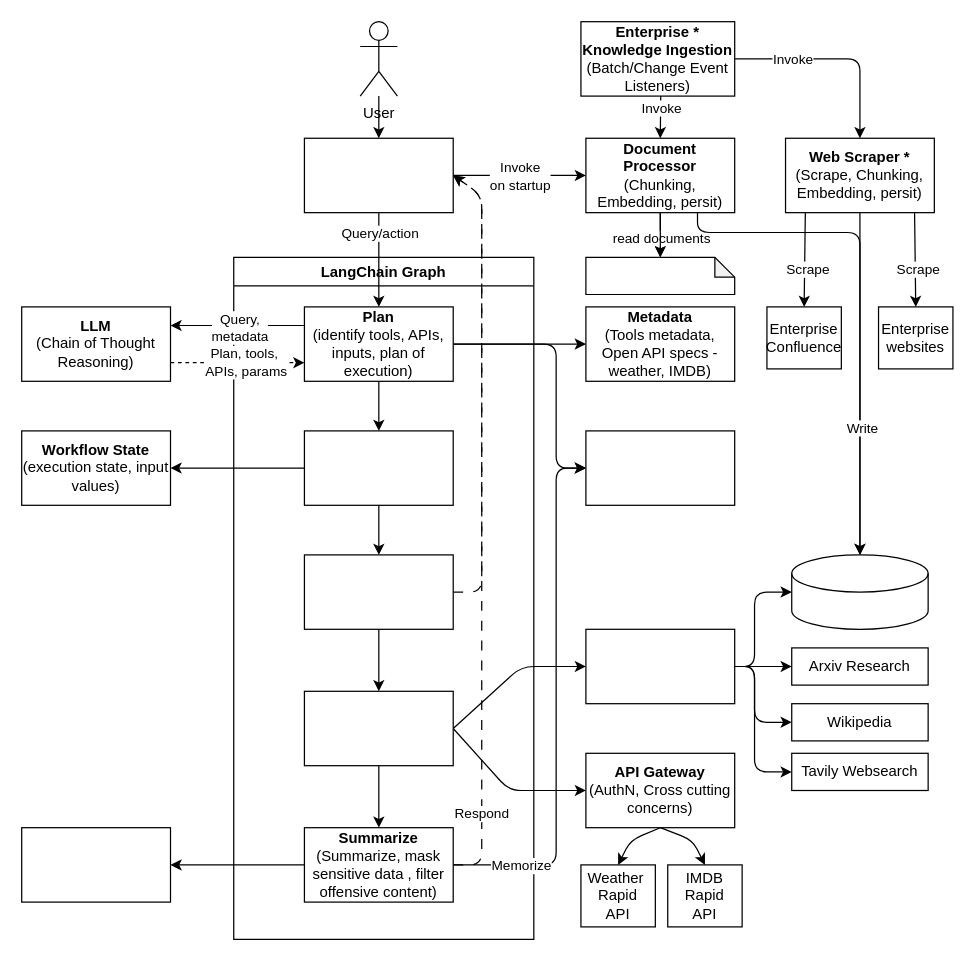
The diagram is 975 pixels wide and 961 high, and some of its shapes have lost their labels. The centre of each missing label's shape, as x and y in pixels:
AskVerse Interface (CLI): the point at 378,175
Collect Inputs (prompt for additional inputs required by tools/ APIs): the point at 378,467
Execute (excute tools/APIs as per plan): the point at 378,728
Human in loop (User consent for excecuting APIs): the point at 378,591
LLM (Summarization): the point at 95,864
Memory (Long term memory, chat history): the point at 660,467
Reports/ PDFs: the point at 660,275
Tools (Arxiv, Tavily, Wiki, Docs): the point at 660,666
Vector DB: the point at 859,591
